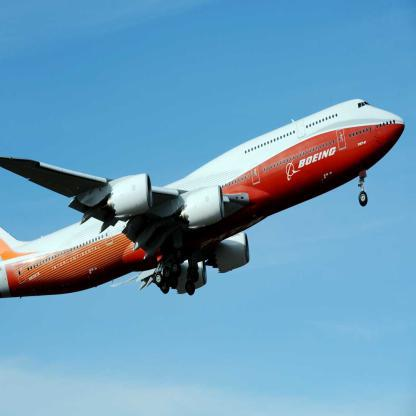CIV_Plane: (0, 93, 406, 302)
